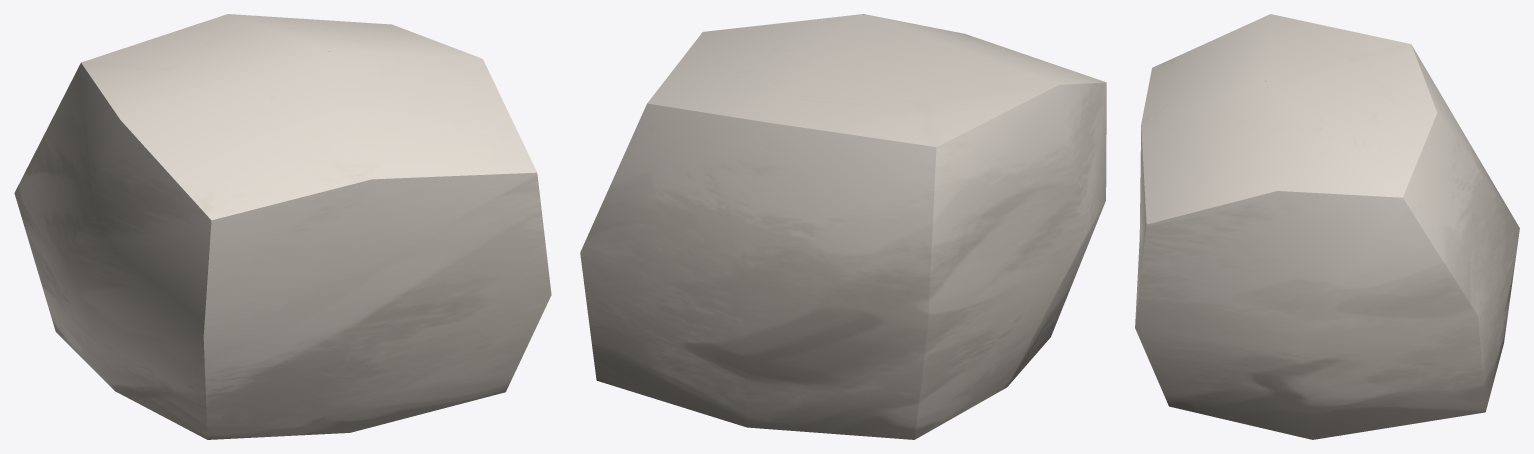
File: rock3.FBX
The picture shows the model from 3 angles, left to right: view 1: azimuth 30°, elevation 25°; view 2: azimuth 150°, elevation 25°; view 3: azimuth 270°, elevation 25°; orthographic projection. The views are drawn at different scales.
Parts seen in each view (by area): view 1: Box002; view 2: Box002; view 3: Box002.
Part boxes in pixels (x1=…): Box002: x1=14, y1=14, x2=551, y2=439; Box002: x1=580, y1=14, x2=1106, y2=439; Box002: x1=1135, y1=14, x2=1519, y2=439.
Bounding box in the file's own units: 37.22 × 33.09 × 26.86.
